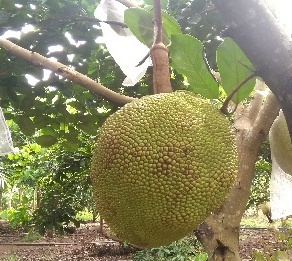Mit: (90, 92, 237, 248)
